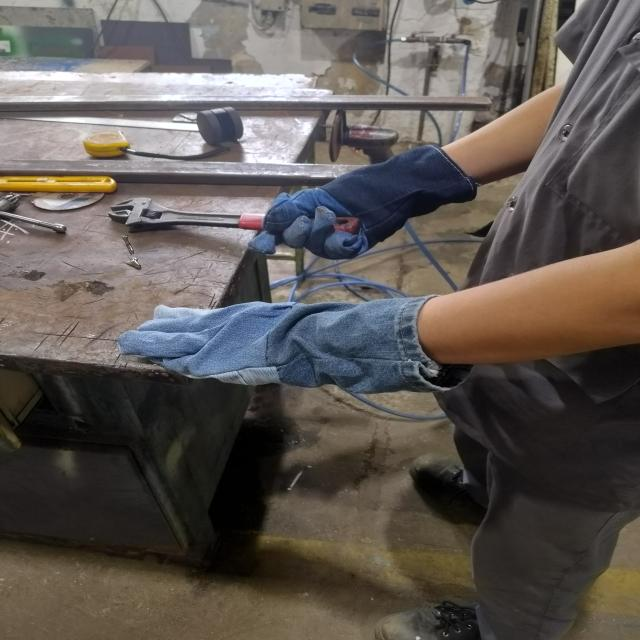Gloves-Detection: (152, 291, 431, 387), (264, 153, 454, 261)
